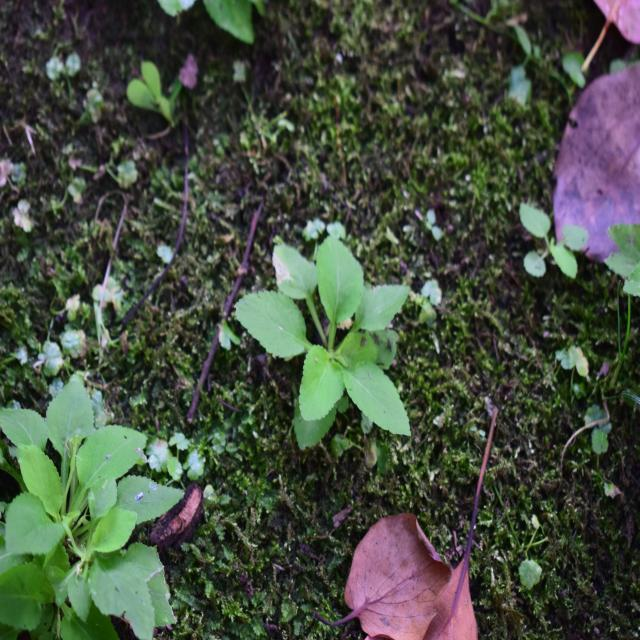Viola: (2, 380, 197, 624), (248, 226, 424, 472)
